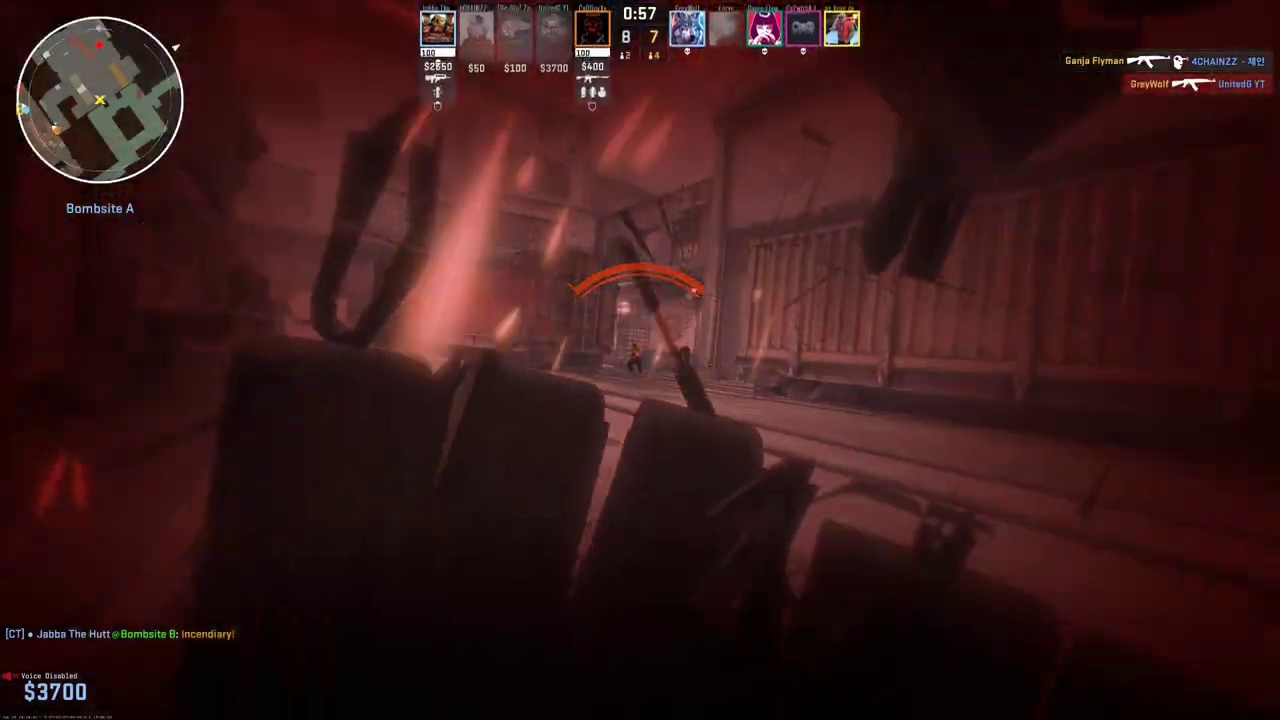Terrorist: (628, 344, 643, 373)
